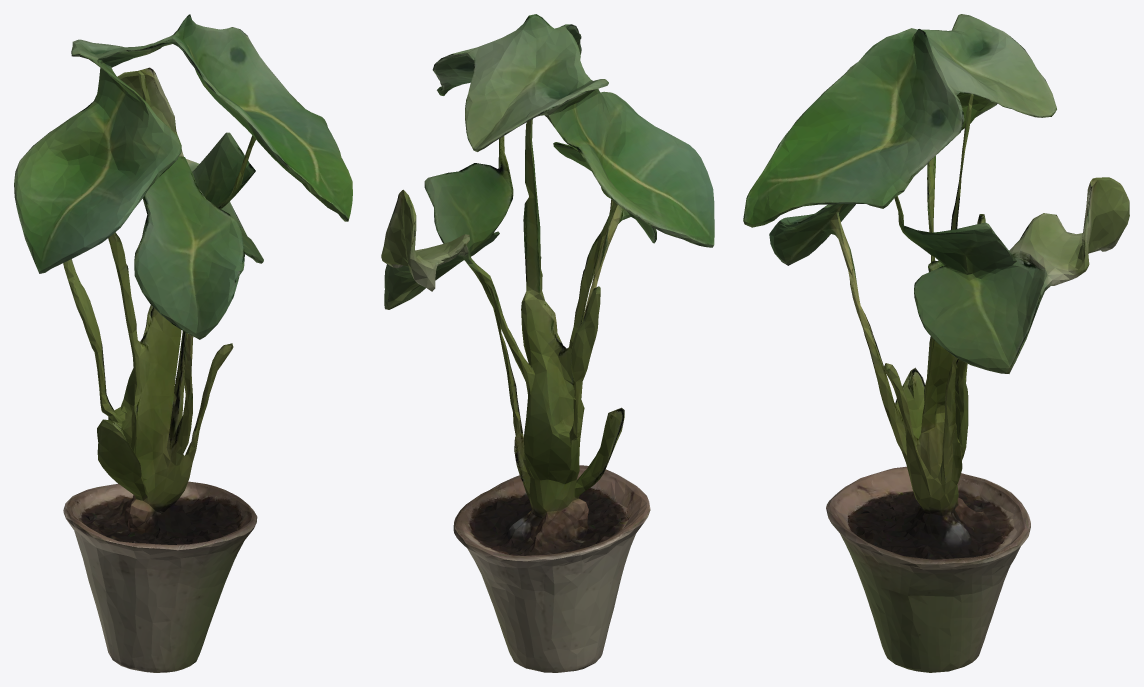
3 renders of one model, left to right at view 1: azimuth 30°, elevation 25°; view 2: azimuth 150°, elevation 25°; view 3: azimuth 270°, elevation 25°, orthographic.
Parts seen in each view (by area): view 1: geometry_0; view 2: geometry_0; view 3: geometry_0.
Part boxes in pixels (bbox=[...]): geometry_0: bbox=[14, 14, 352, 672]; geometry_0: bbox=[381, 14, 714, 672]; geometry_0: bbox=[743, 14, 1129, 672].
Bounding box in the file's own units: 0.4637 × 0.9985 × 0.547.
Materials: 1 (1 with a texture image).
